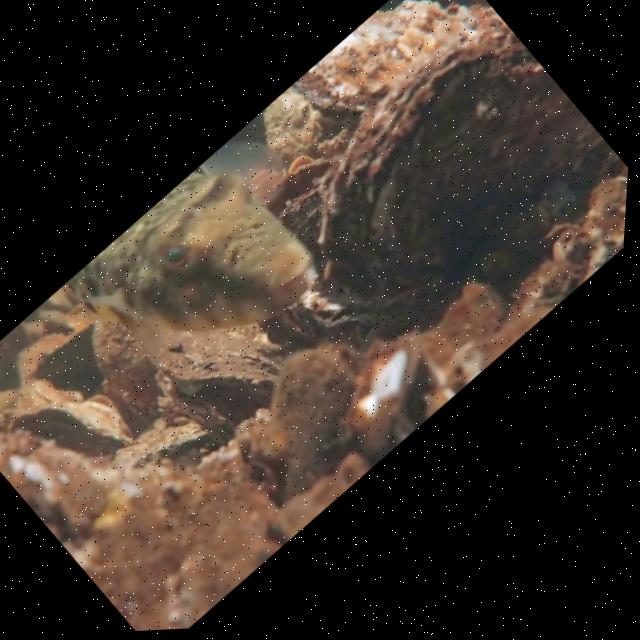Oyster-Closed: (156, 325, 284, 434), (8, 392, 137, 460)
Oyster-Indeterminate: (313, 28, 601, 312)
